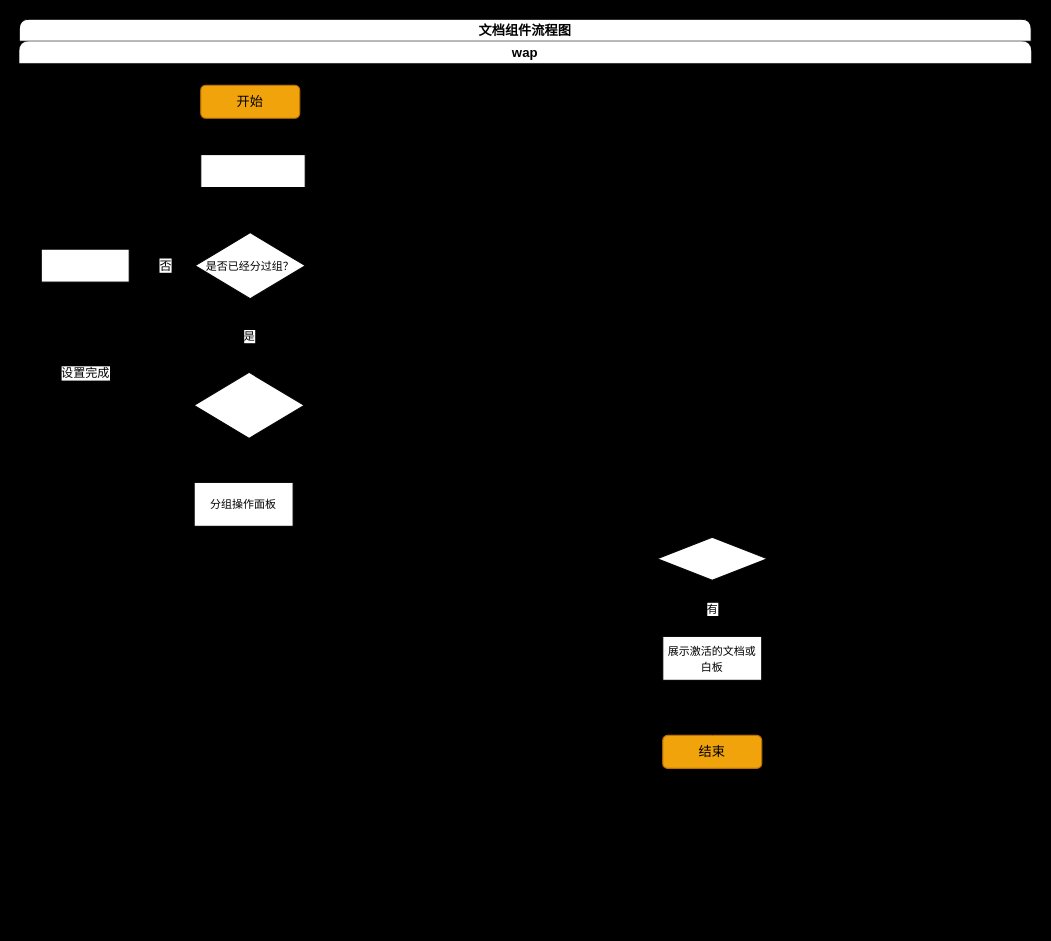
This 1051x941 diagram has some shape labels left out. Here are the shapes that lost their labels. From the top down, the centre of each, then its label:
At point (252, 170): "点击分组讨论菜单".
At point (84, 265): "分组设置弹窗".
At point (248, 404): "分组操作面板 是否显示？".
At point (711, 558): "有无数据？".
